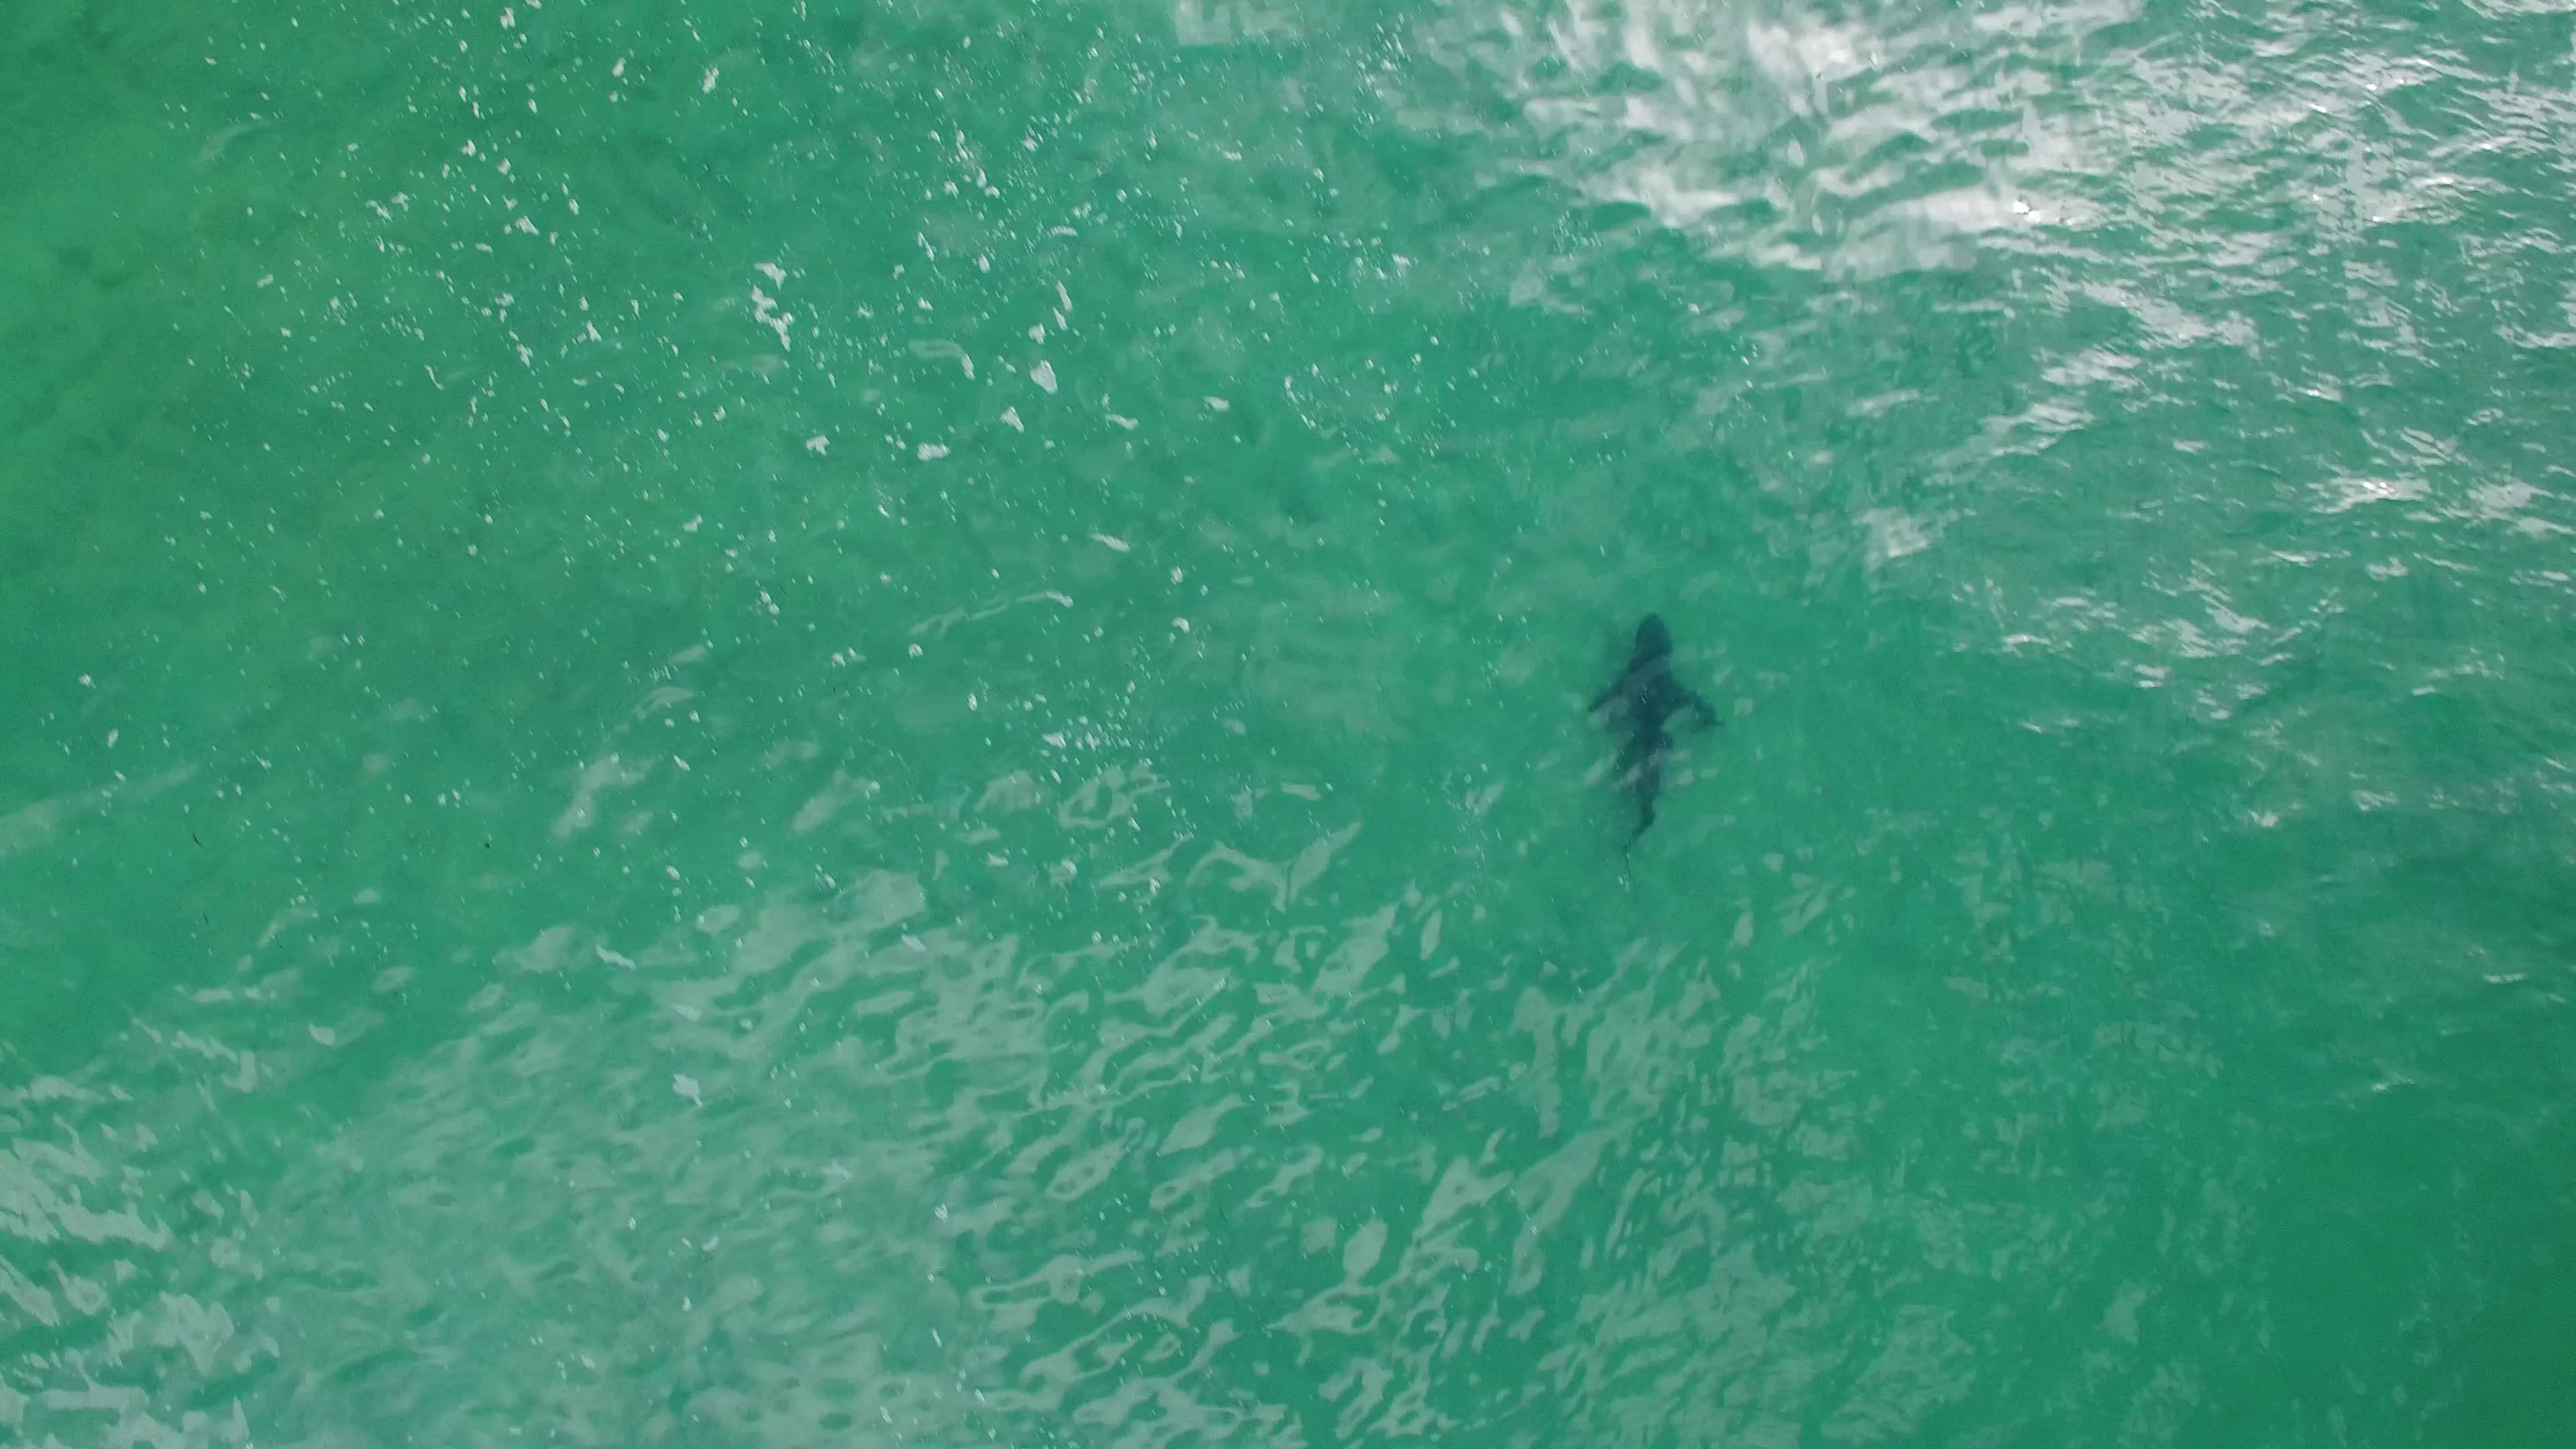shark: (1576, 607, 1734, 872)
